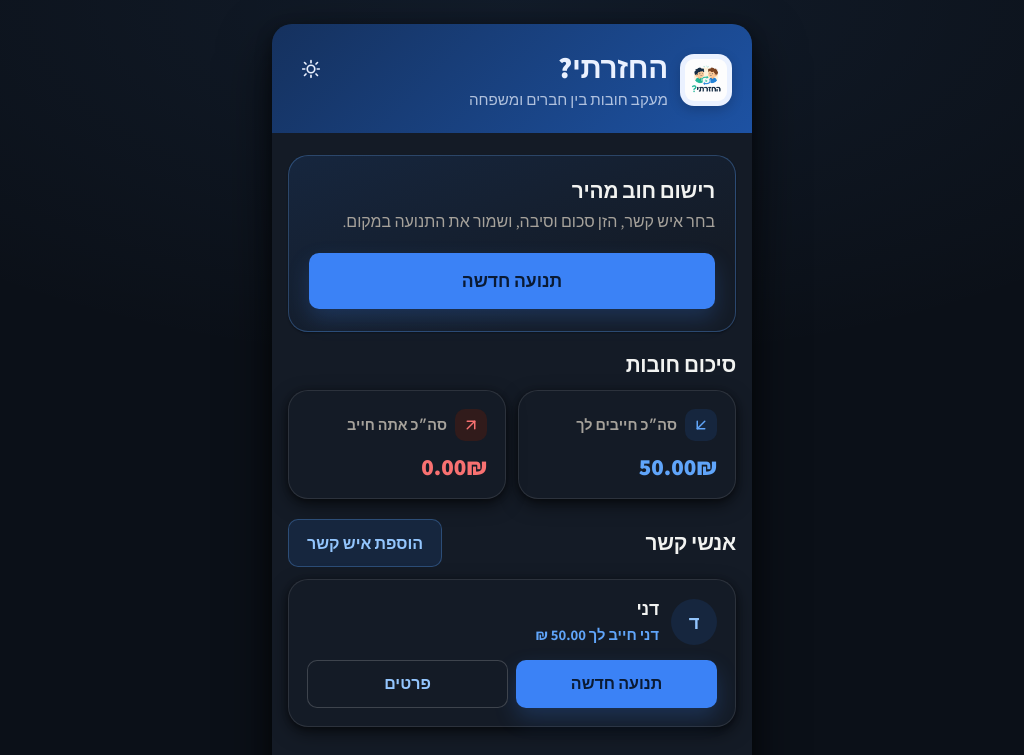
Test: App › Edit Member › transactions remain associated with the member after renaming
Click the button "פרטים" at (408, 684), box [307,660,508,708]
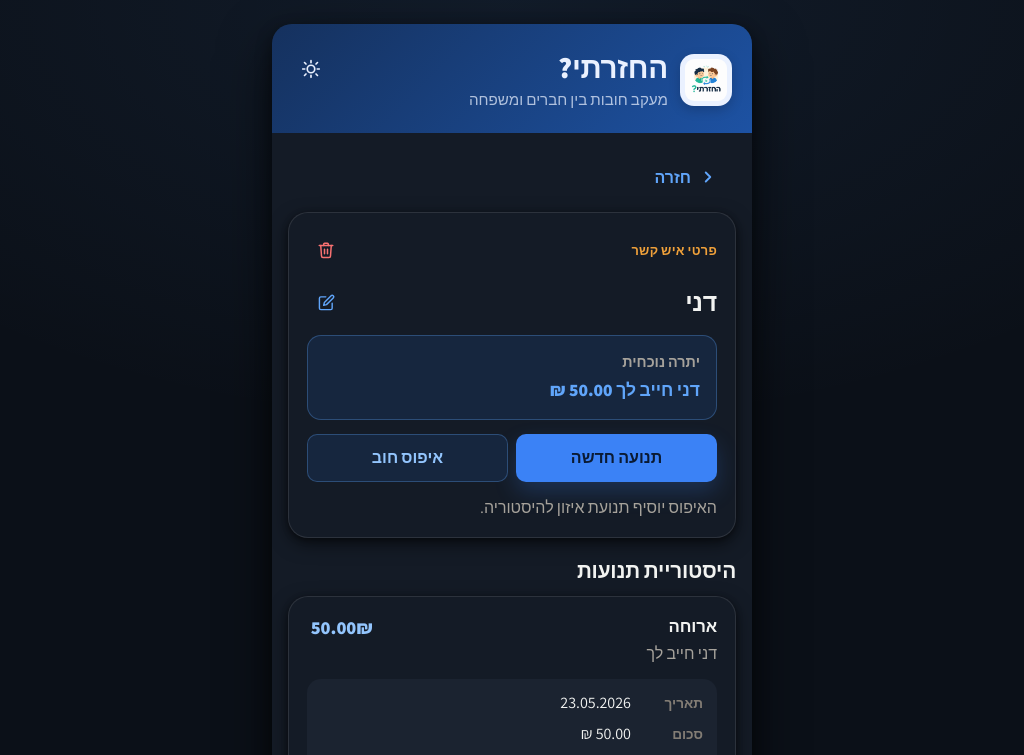
Click the button named "שינוי שם" at (326, 302), box [307,283,345,321]
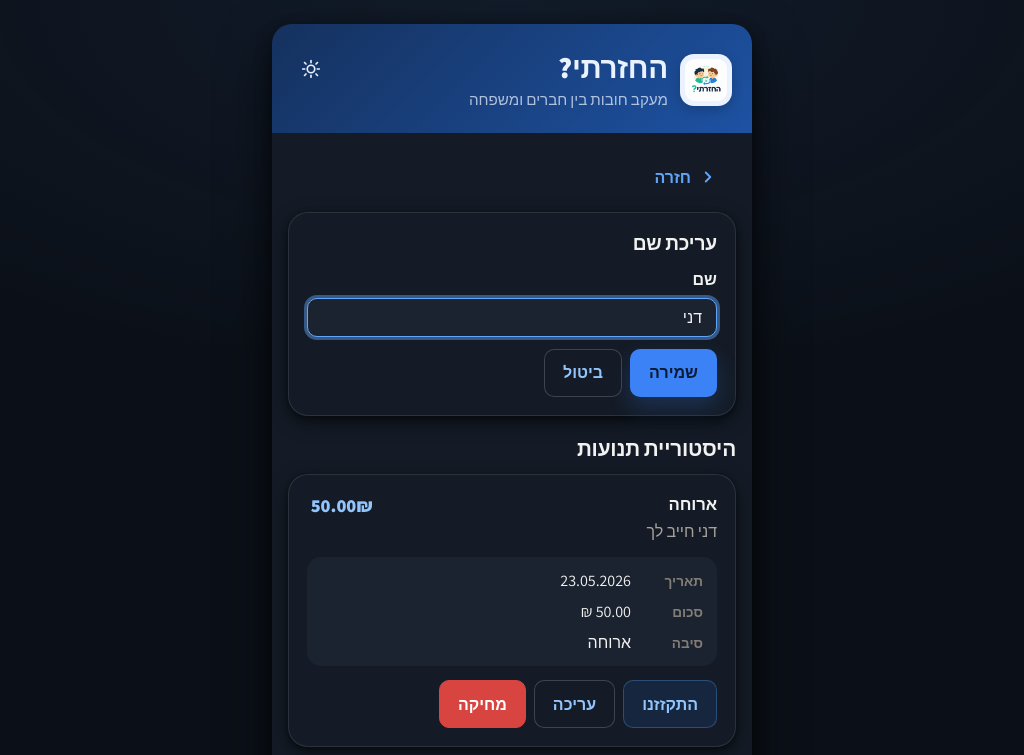
Replace the text in the field labelled "שם" with "דוד" at (512, 317), box [307,298,717,337]
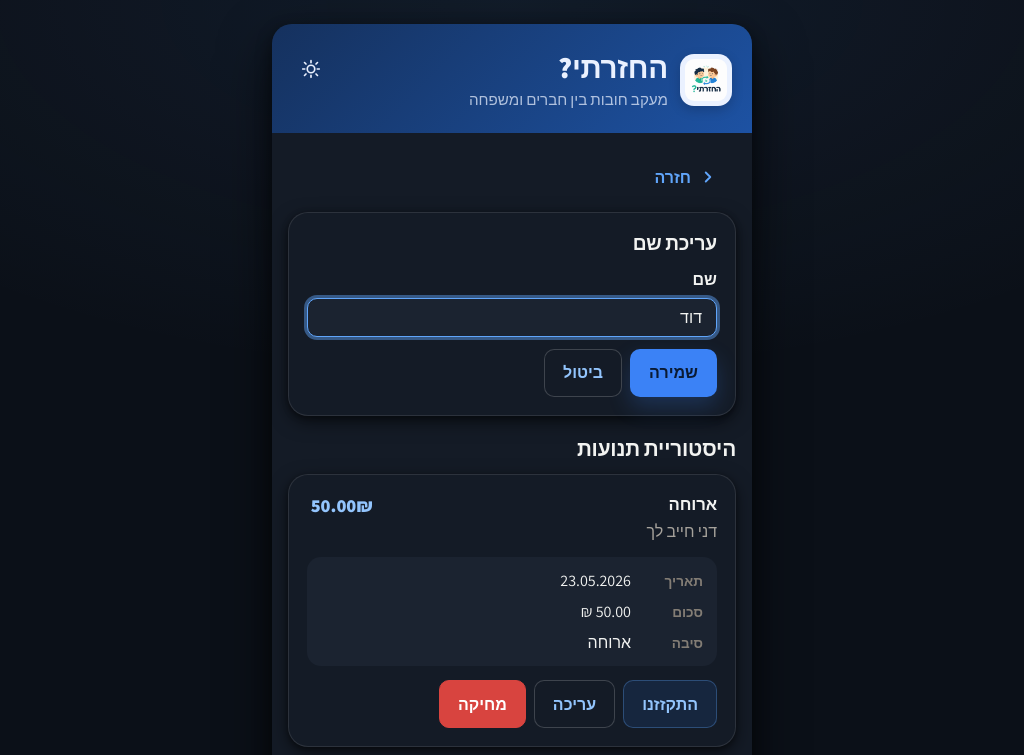
Click the button "שמירה" at (674, 373), box [630,349,717,397]
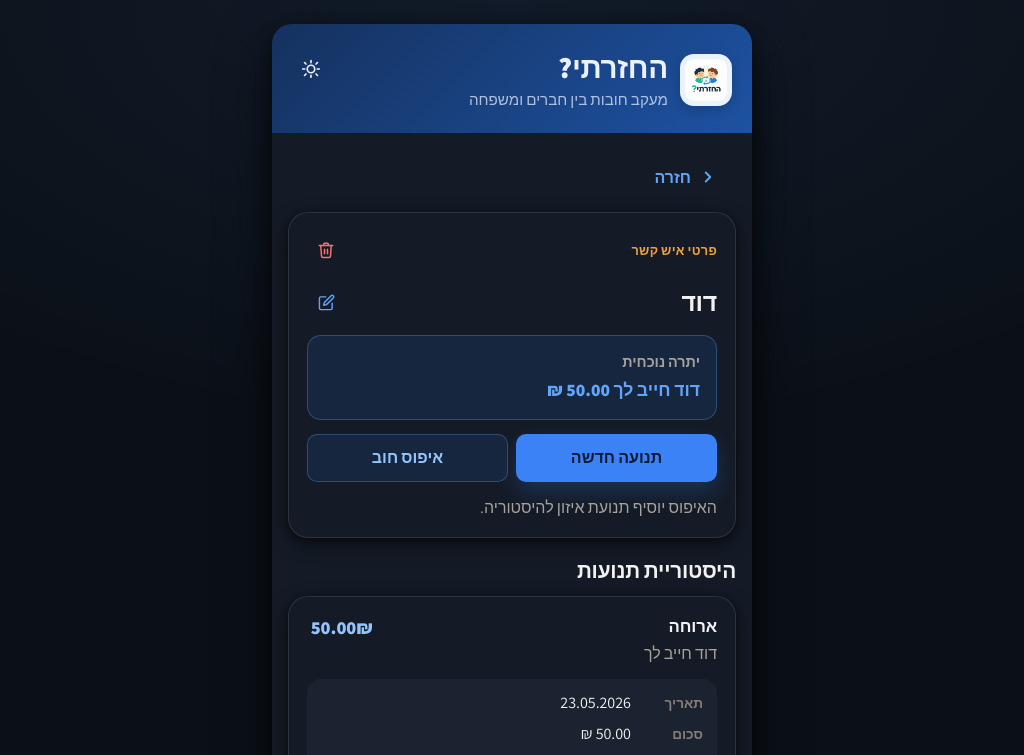
Check: the heading "ארוחה" is shown, box [669,615,717,637]
Check: the text "דוד חייב לך 50.00 ₪" is shown, box [547,378,700,402]
